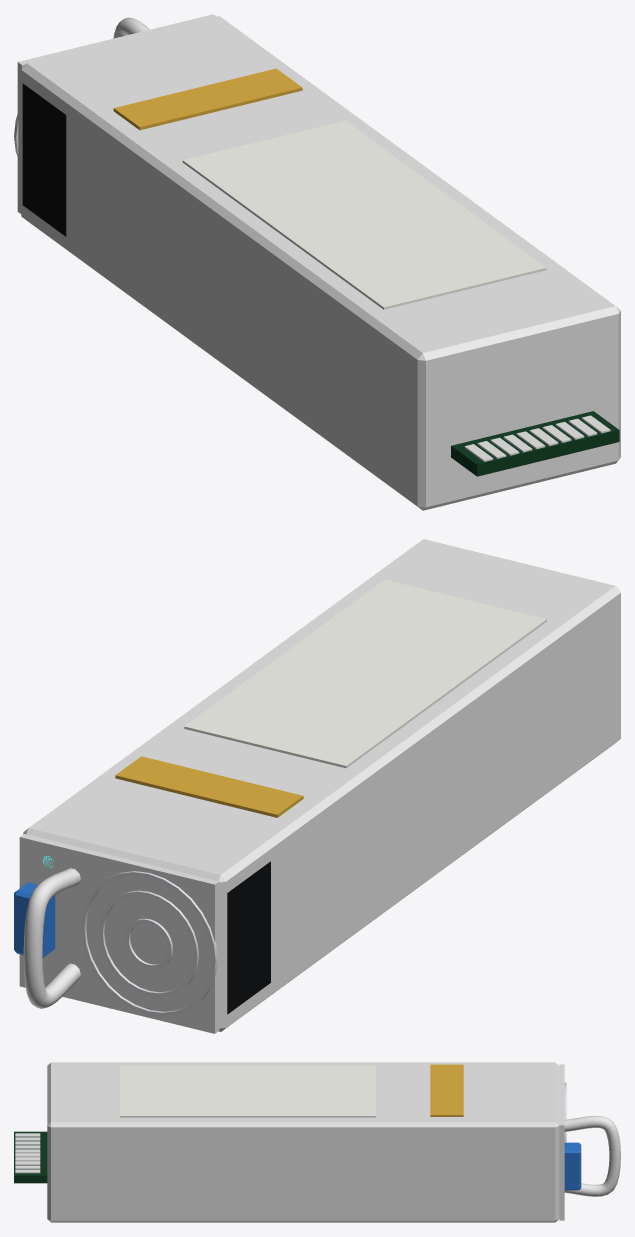
The model's file is hw_psu_800w_red.glb.
3 renders of one model, top to bottom at view 1: azimuth 30°, elevation 25°; view 2: azimuth 150°, elevation 25°; view 3: azimuth 270°, elevation 25°, orthographic. The views are drawn at different scales.
Visible parts, largest first — view 1: Body; view 2: Body; view 3: Body.
Part boxes in pixels (x1,y1,x2,y2): Body: (14, 14, 620, 510); Body: (14, 539, 620, 1033); Body: (14, 1062, 620, 1222).
Bounding box in the file's own units: 0.054 × 0.041 × 0.2193.
